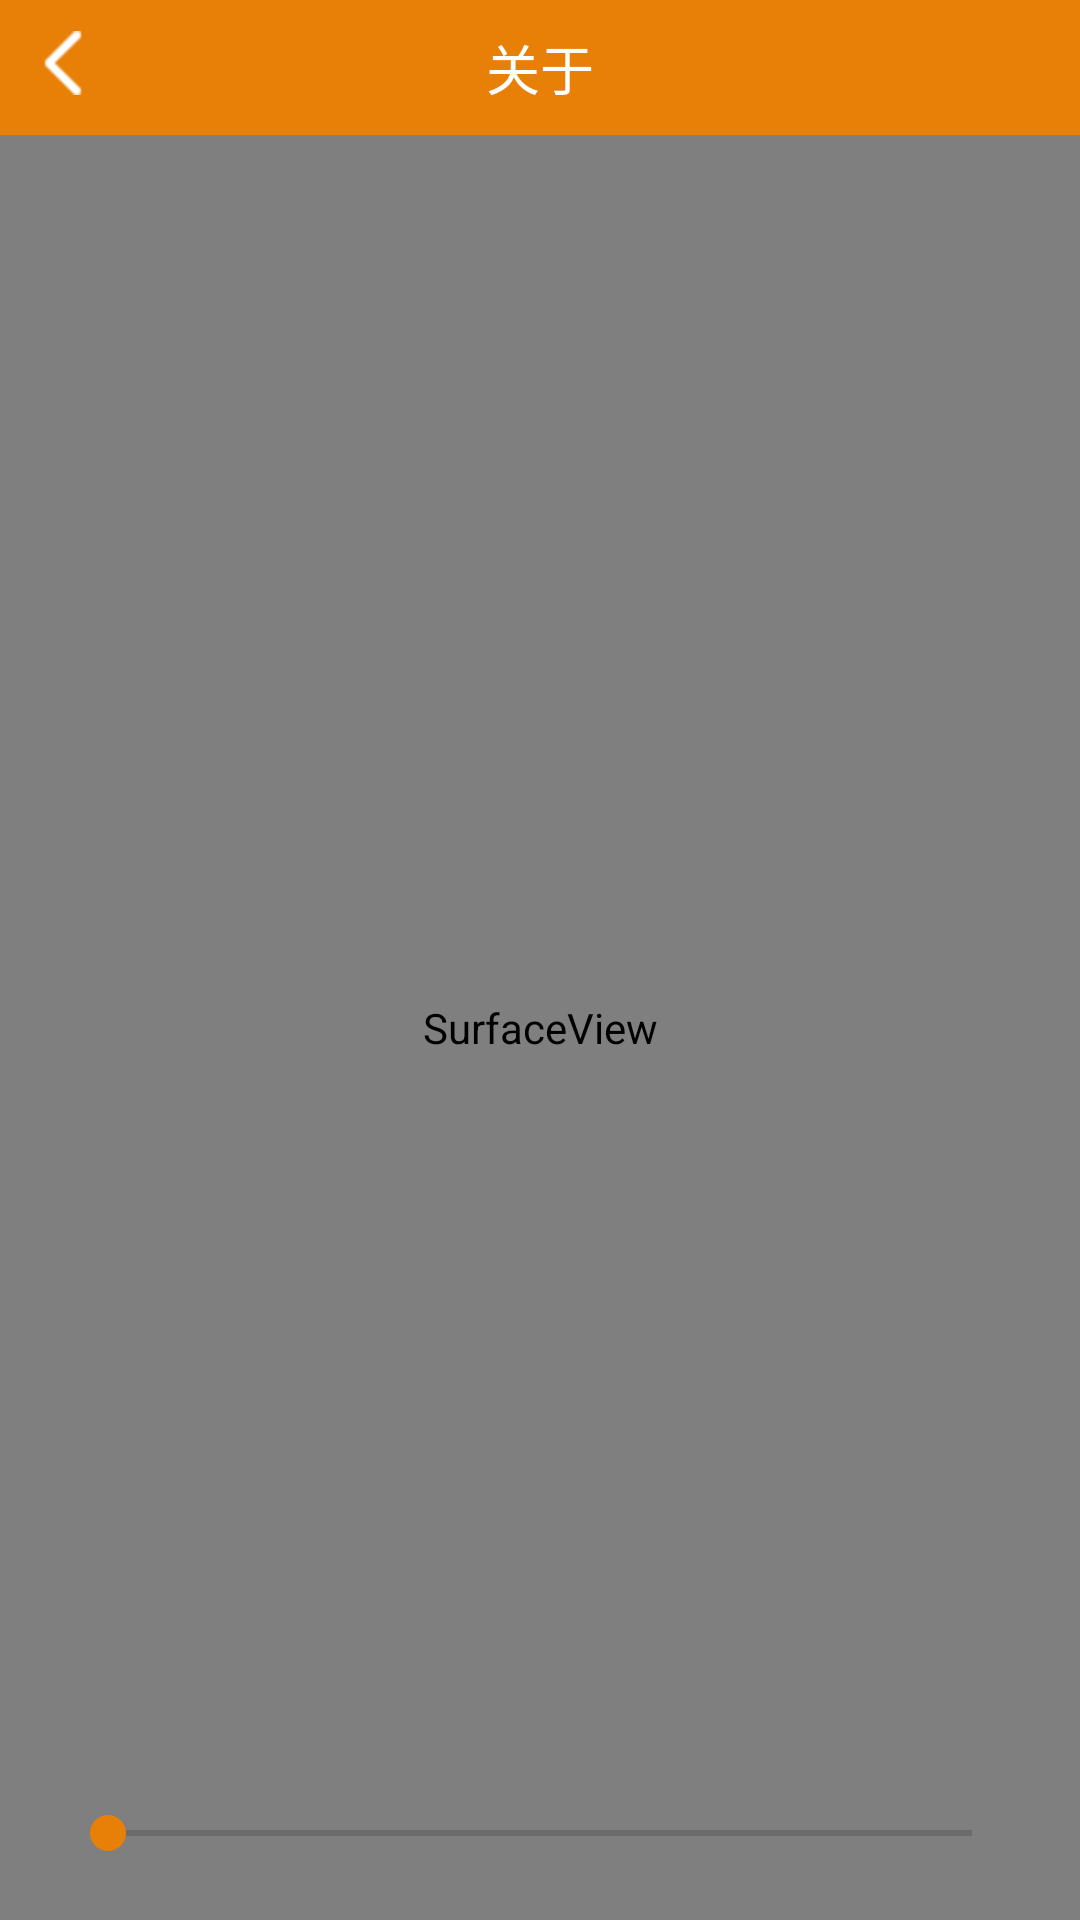

Locate icon controls on the screen. Image size 1080x1920, boxes as (x1=x1, y1=y1, x2=x2, y2=y2).
back: (x1=44, y1=31, x2=82, y2=95)
